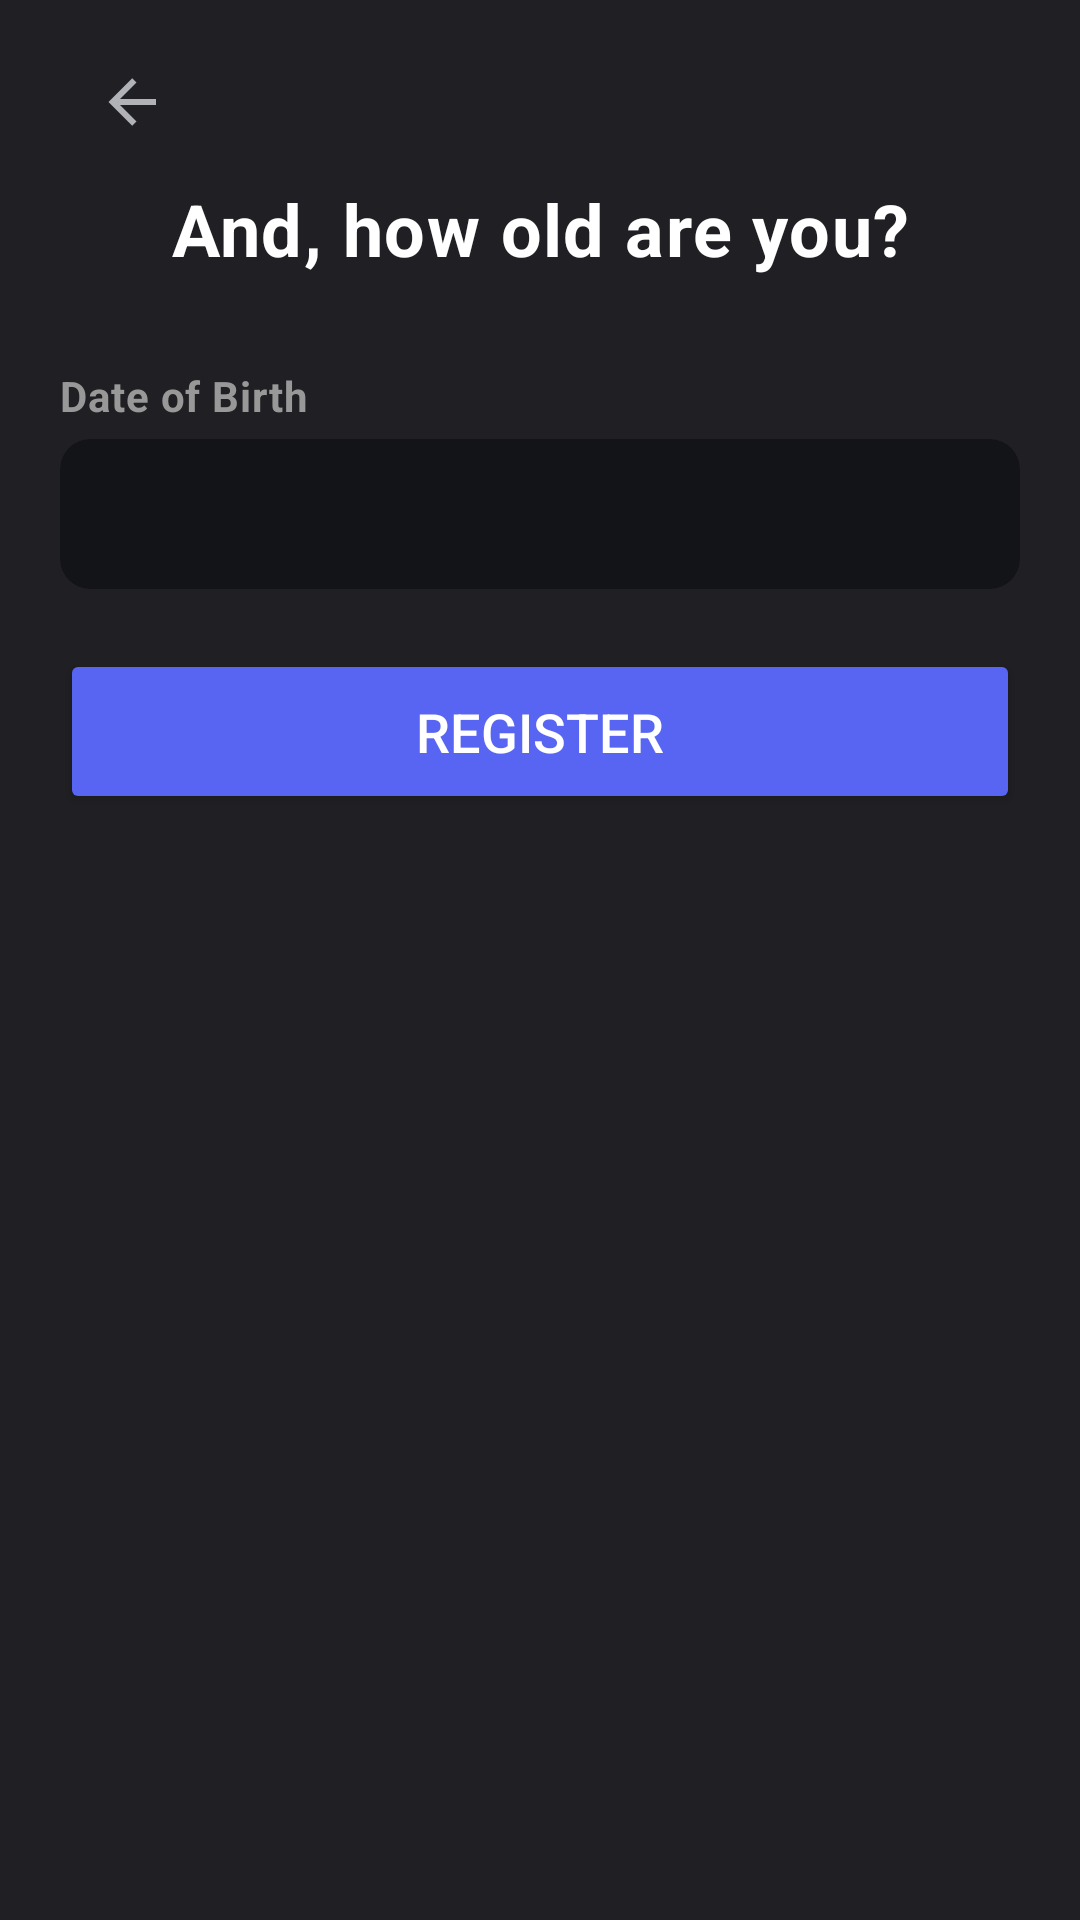

Named icons in this screenshot (1080 x 1920) and their centers, [x,y]:
Back: [132,102]
